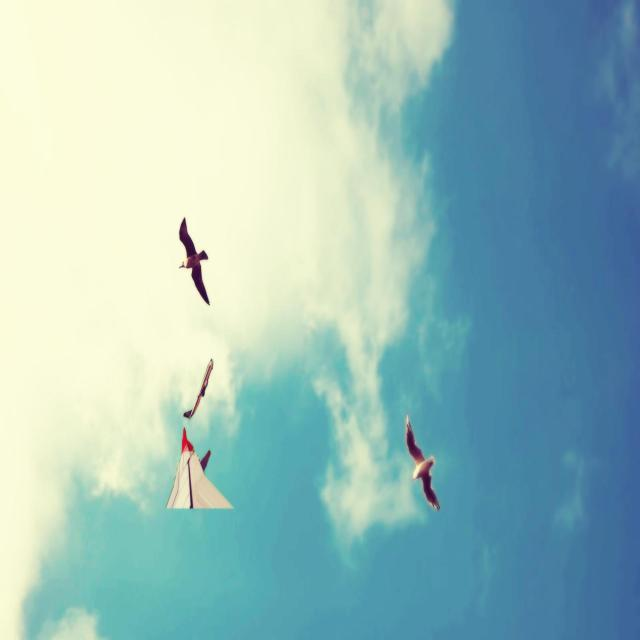airplane: (165, 426, 234, 509), (183, 358, 214, 419)
